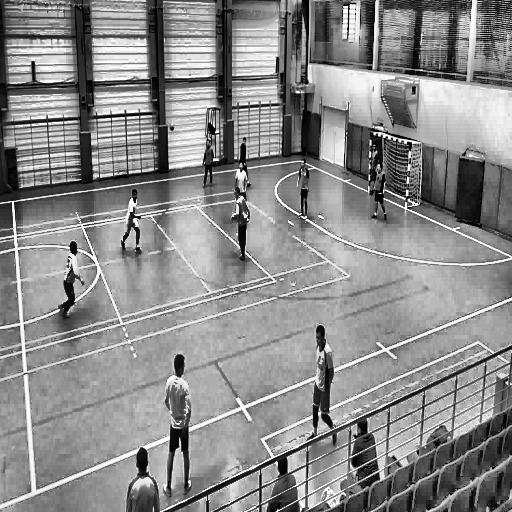ball: (168, 117, 176, 135)
player: (162, 350, 194, 500), (306, 322, 339, 450), (343, 414, 380, 485), (261, 450, 302, 512), (124, 444, 160, 512), (58, 240, 86, 324), (120, 188, 144, 261), (229, 188, 250, 265), (372, 162, 388, 226), (296, 159, 310, 221), (200, 139, 216, 192), (238, 134, 252, 189), (367, 140, 380, 195), (233, 160, 247, 201)
